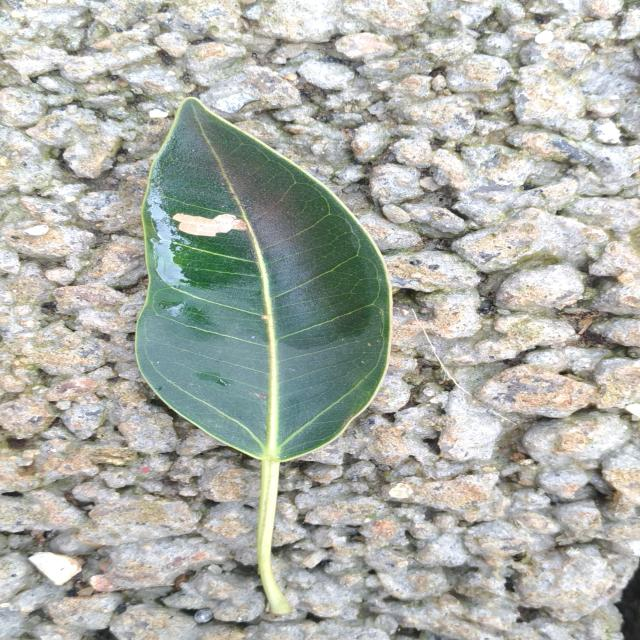camphor: (136, 98, 391, 464)
defected camphor: (147, 99, 300, 315)
